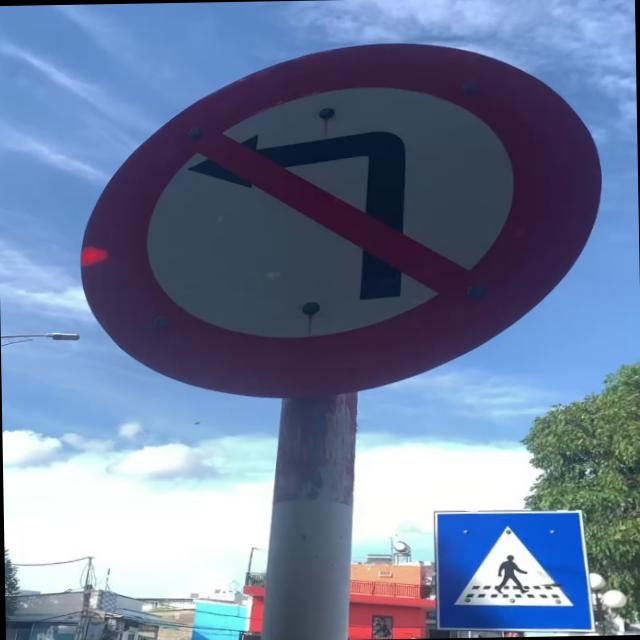Cam_Re_Trai: (71, 36, 606, 410)
